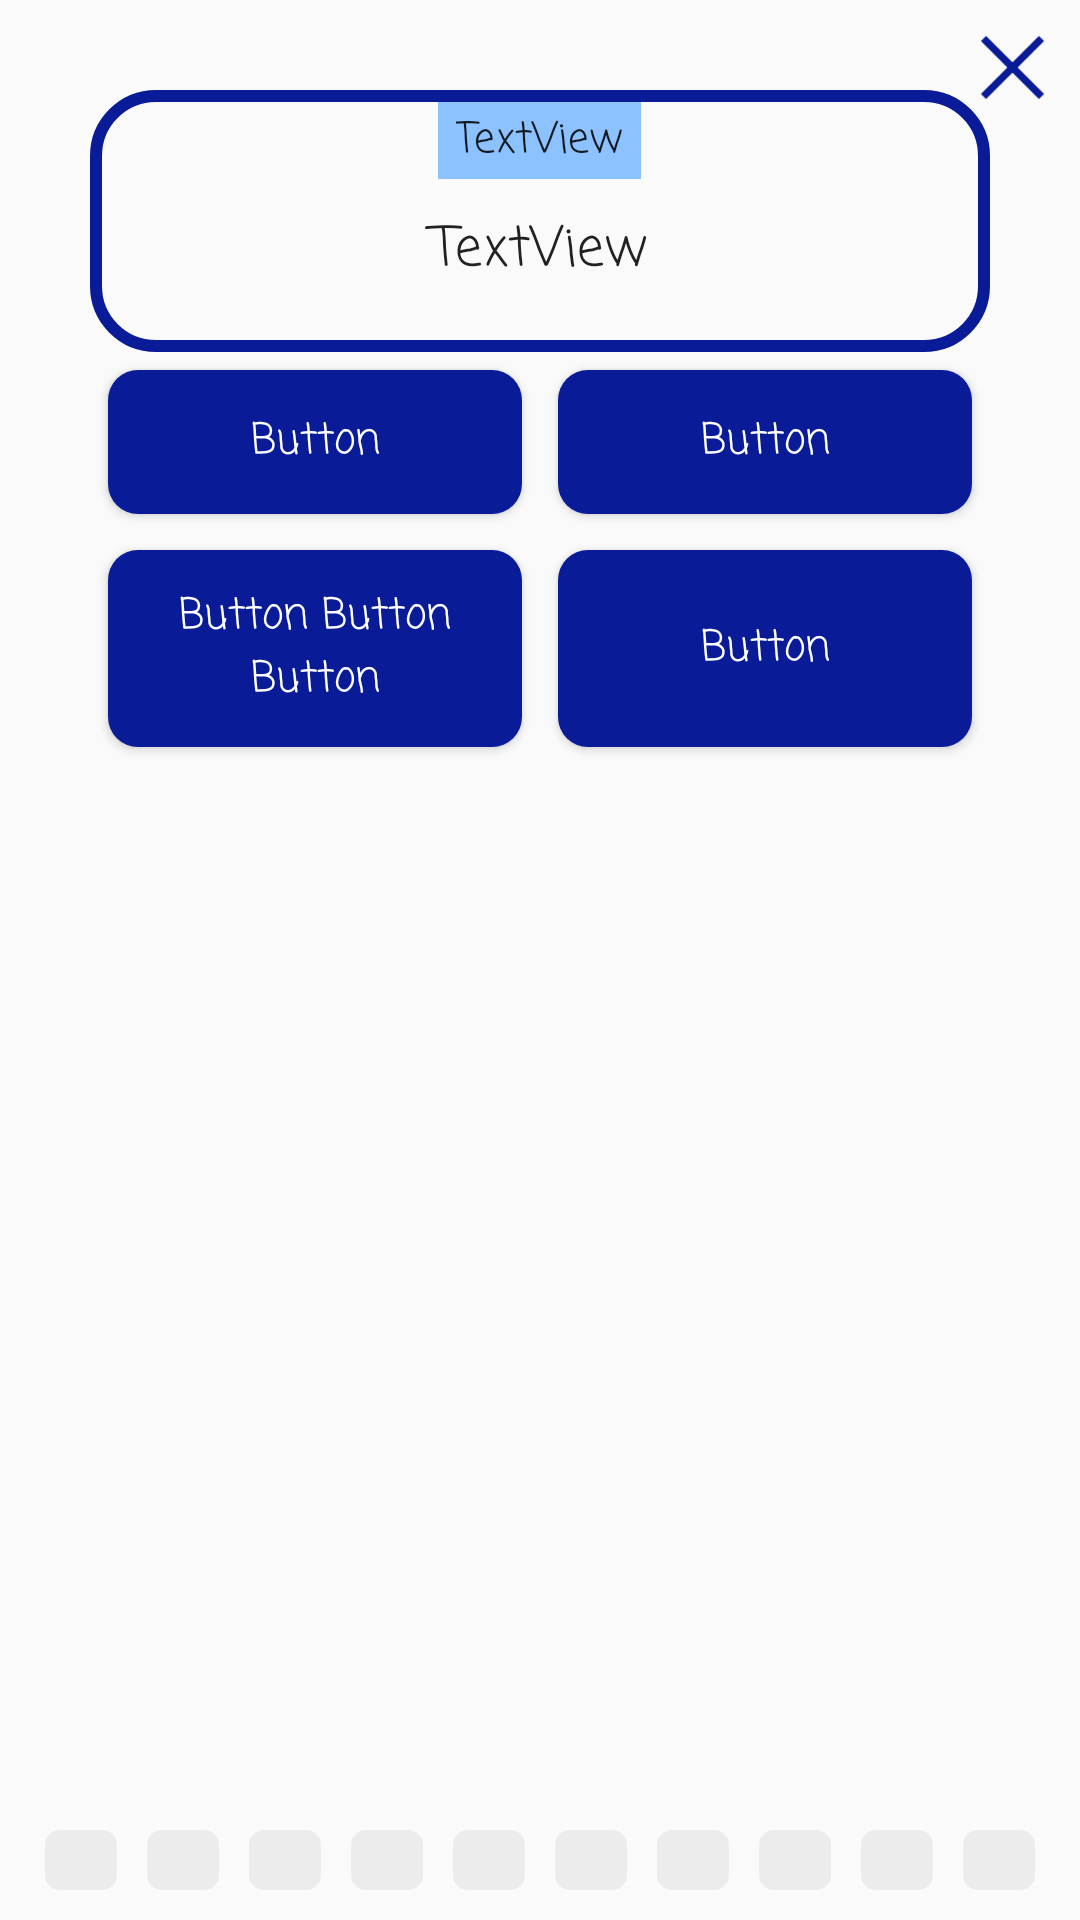

Icon click points for this 1080px x 1920px phone screenshot, format (x=x, y=y):
exit: (x=1012, y=67)
